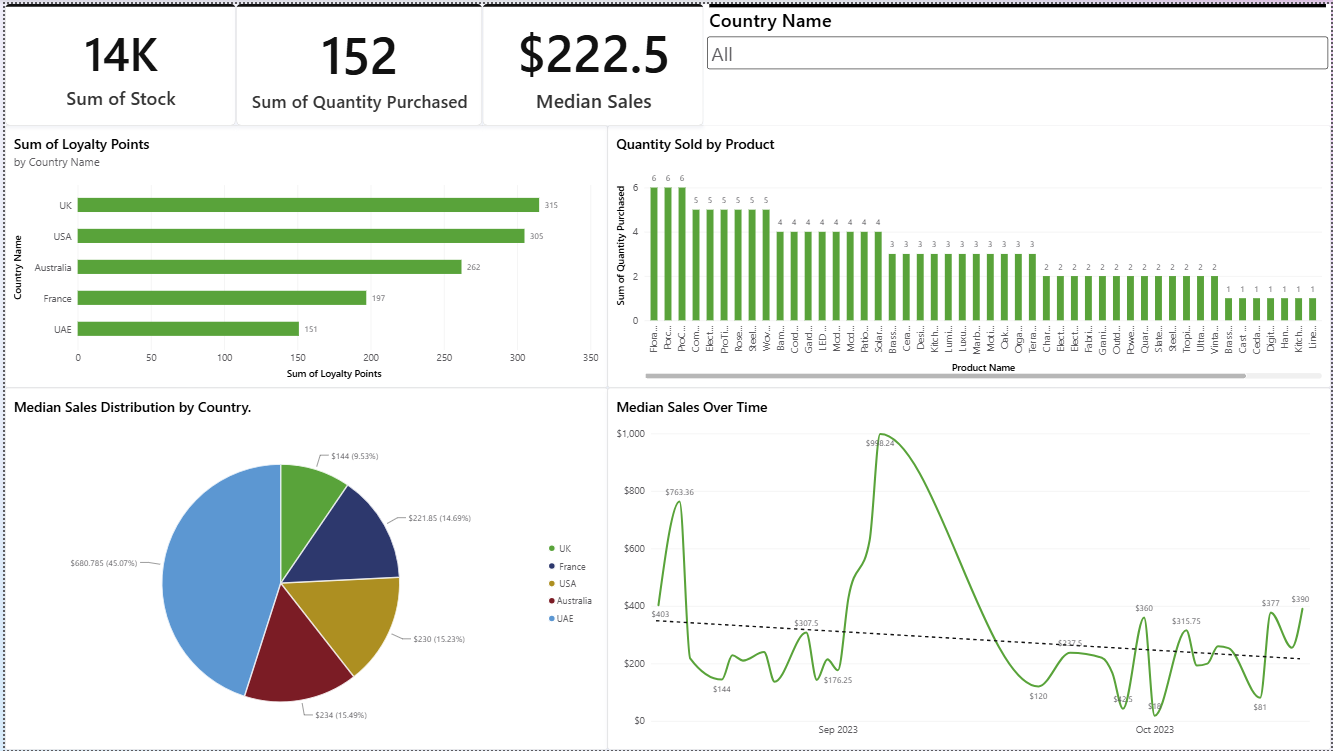

The dashboard page shown, as its layout file describes it:
{"tool":"powerbi","page":{"name":"Sales Overview","canvas":[1920,1080],"ordinal":0},"visuals":[{"type":"clusteredBarChart","fields":{"Category":["Sales in USD.Country Name"],"Y":["Sum(Sales in USD. Loyalty Points)"]},"box":[0,176.4,872.7,380],"z":0},{"type":"clusteredColumnChart","title":"Quantity Sold by Product","fields":{"Category":["Sales in USD.Product Name"],"Y":["Sum(Sales in USD.Quantity Purchased)"]},"box":[872.7,176.4,1047.3,380],"z":1000},{"type":"pieChart","title":"Median Sales Distribution by Country.","fields":{"Category":["Sales in USD.Country Name"],"Y":["Sales in USD.Median Sales"]},"box":[0,556.4,872.7,523.6],"z":2000},{"type":"lineChart","title":"Median Sales Over Time","fields":{"Category":["CalendarTable.Date"],"Y":["Sales in USD.Median Sales"]},"box":[872.7,556.4,1047.3,523.6],"z":3000},{"type":"cardVisual","fields":{"Data":["Sum(Sales in USD. Stock  )"]},"box":[0,0,334.5,176.4],"z":4000},{"type":"cardVisual","fields":{"Data":["Sum(Sales in USD.Quantity Purchased)"]},"box":[334.5,0,356.4,176.4],"z":5000},{"type":"cardVisual","fields":{"Data":["Sales in USD.Median Sales"]},"box":[690.9,0,320,176.4],"z":6000},{"type":"slicer","fields":{"Values":["Sales in USD.Country Name"]},"box":[1010.9,0,909.1,176.4],"z":7000}]}

Visuals, with their boxes in screenshot pixels (x1, y1, x2, y2), scaled from the page's 1920x1080 canvas onto the 1333x751 screenshot:
clusteredBarChart - Sales in USD.Country Name x Sum(Sales in USD. Loyalty Points): {"x1": 0, "y1": 123, "x2": 606, "y2": 387}
"Quantity Sold by Product" clusteredColumnChart: {"x1": 606, "y1": 123, "x2": 1332, "y2": 387}
"Median Sales Distribution by Country." pieChart: {"x1": 0, "y1": 387, "x2": 606, "y2": 750}
"Median Sales Over Time" lineChart: {"x1": 606, "y1": 387, "x2": 1332, "y2": 750}
cardVisual - Sum(Sales in USD. Stock  ): {"x1": 0, "y1": 0, "x2": 232, "y2": 123}
cardVisual - Sum(Sales in USD.Quantity Purchased): {"x1": 232, "y1": 0, "x2": 480, "y2": 123}
cardVisual - Sales in USD.Median Sales: {"x1": 480, "y1": 0, "x2": 702, "y2": 123}
slicer - Sales in USD.Country Name: {"x1": 702, "y1": 0, "x2": 1332, "y2": 123}
